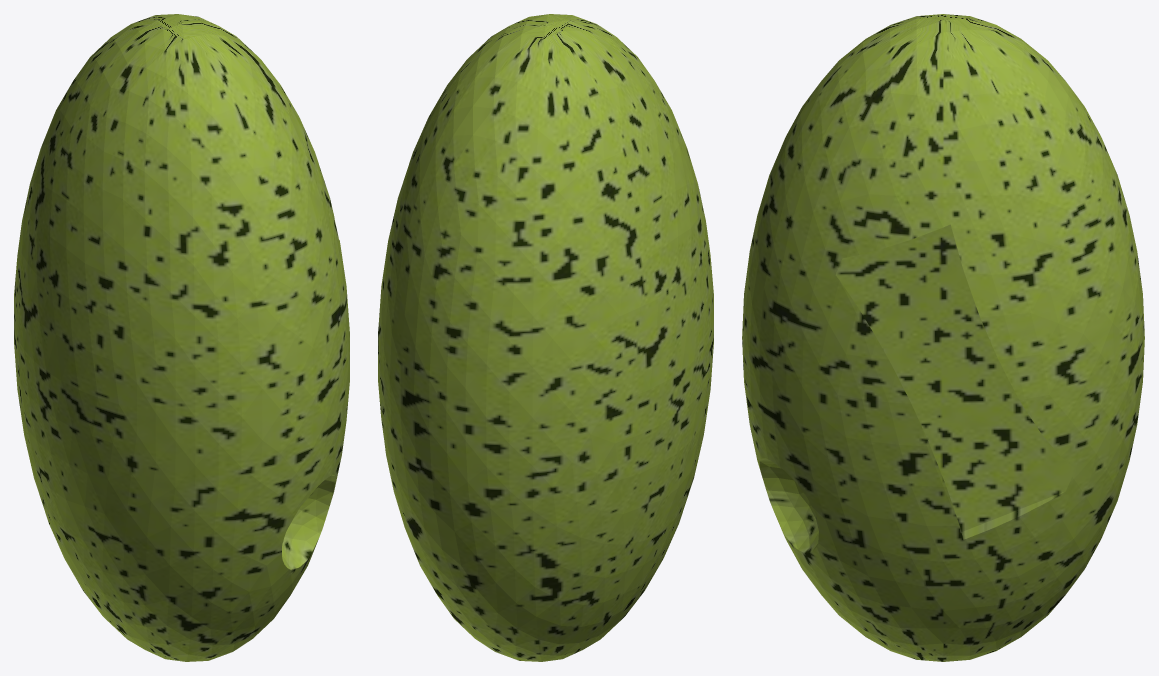
3 renders of one model, left to right at view 1: azimuth 30°, elevation 25°; view 2: azimuth 150°, elevation 25°; view 3: azimuth 270°, elevation 25°, orthographic.
Parts seen in each view (by area): view 1: geometry_0; view 2: geometry_0; view 3: geometry_0.
Part boxes in pixels (x1,y1,x2,y2): geometry_0: (14,14,349,661); geometry_0: (378,14,713,661); geometry_0: (742,14,1144,661).
Bounding box in the file's own units: 0.9737 × 2.17 × 1.25.
Materials: 1 (1 with a texture image).
